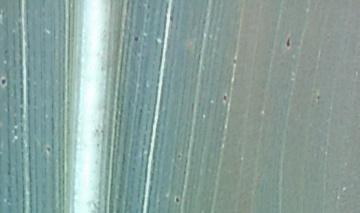tarspot: (312, 91, 326, 104), (282, 34, 293, 50), (220, 90, 231, 106), (229, 55, 240, 68), (1, 72, 9, 89), (173, 195, 184, 206), (166, 12, 177, 23), (174, 151, 183, 162), (44, 143, 52, 155), (132, 32, 140, 43)
